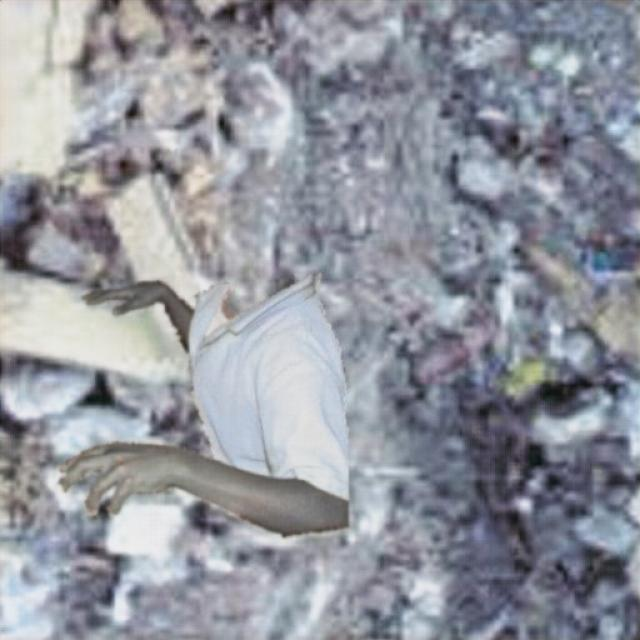Person in Rubble: (58, 274, 348, 536)
